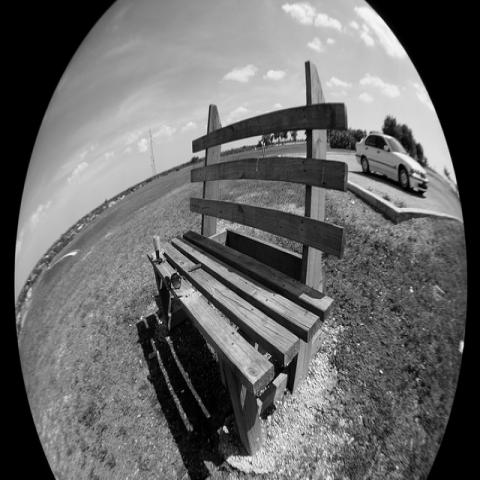car: (353, 132, 428, 194)
